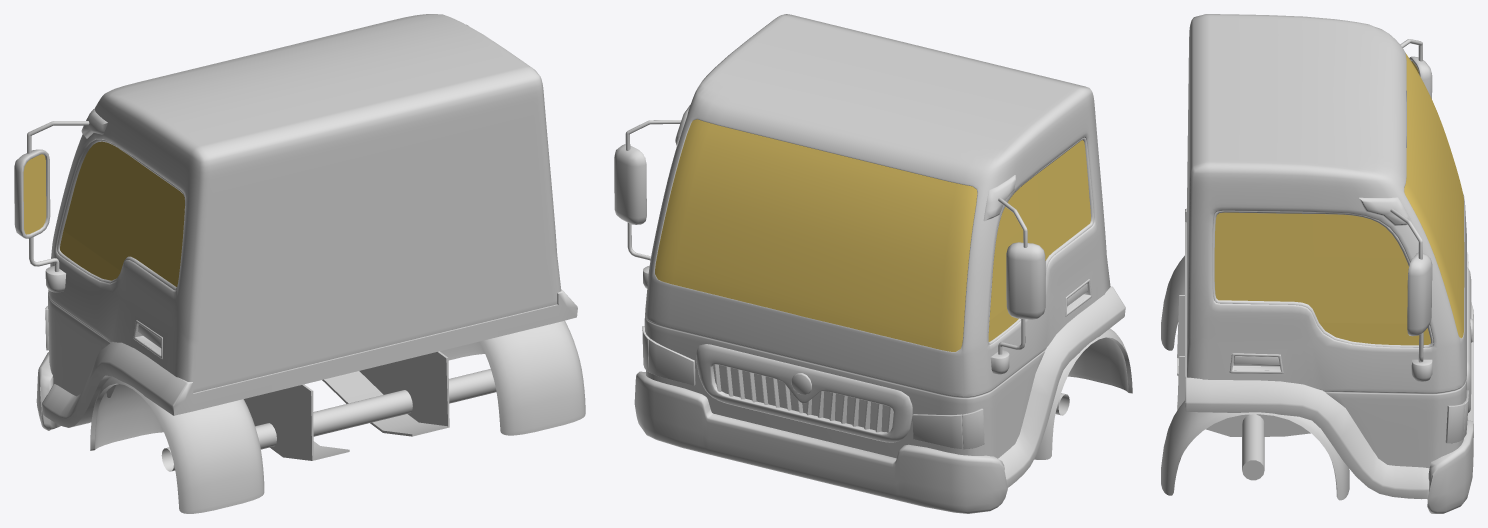
Rendered from Truck front.fbx.
3 renders of one model, left to right at view 1: azimuth 30°, elevation 25°; view 2: azimuth 150°, elevation 25°; view 3: azimuth 270°, elevation 25°, orthographic. The views are drawn at different scales.
Visible parts, largest first — view 1: TruckHigh; view 2: TruckHigh; view 3: TruckHigh.
Boxes of the visible parts, left/top/right/bottom form: TruckHigh: left=14, top=14, right=585, bottom=513; TruckHigh: left=614, top=14, right=1132, bottom=513; TruckHigh: left=1161, top=14, right=1473, bottom=513.
Size of the model in its own units: 2.52 by 1.88 by 1.57.
